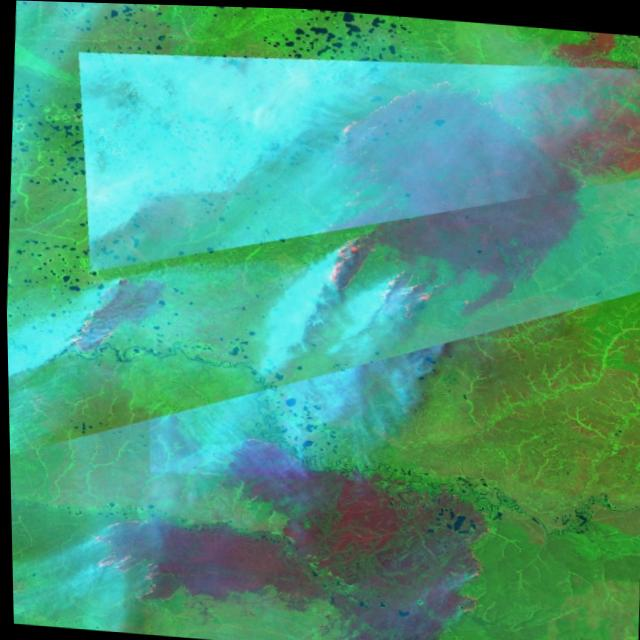fire: (299, 221, 446, 319), (84, 509, 182, 604), (442, 506, 499, 617), (65, 305, 128, 362)
